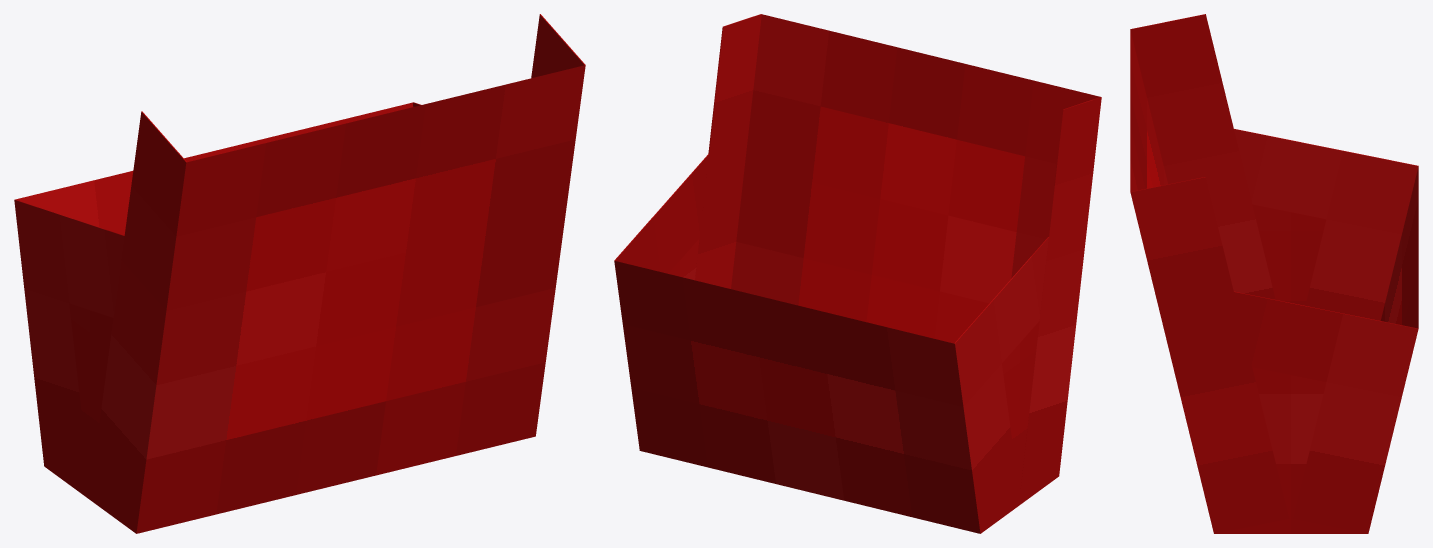
The picture shows the model from 3 angles, left to right: view 1: azimuth 30°, elevation 25°; view 2: azimuth 150°, elevation 25°; view 3: azimuth 270°, elevation 25°; orthographic projection. The views are drawn at different scales.
Visible parts, largest first — view 1: back, back_l, front_l, front, bottom_l, top_l, back_r; view 2: back, front, back_l, back_r, front_l, top_r, bottom_l, top_l, bottom_r; view 3: back_r, back_l, front_r, front_l, bottom_r, top_r, top_l, bottom_l, front, back.
Part boxes in pixels (x1,y1,x2,y2): back: (136, 65, 585, 533); back_l: (91, 111, 186, 533); front_l: (14, 200, 88, 480); front: (15, 102, 413, 235); bottom_l: (45, 303, 134, 532); top_l: (15, 199, 124, 317); back_r: (531, 14, 585, 436); back: (731, 14, 1100, 343); front: (614, 261, 980, 533); back_l: (1020, 97, 1101, 488); back_r: (695, 14, 761, 288); front_l: (955, 301, 1018, 533); top_r: (614, 154, 708, 273); bottom_l: (982, 321, 1058, 532); top_l: (954, 237, 1048, 362); bottom_r: (668, 238, 699, 280); back_r: (1130, 177, 1289, 533); back_l: (1130, 14, 1275, 299); front_r: (1293, 314, 1418, 533); front_l: (1305, 151, 1418, 320); bottom_r: (1215, 367, 1367, 533); top_r: (1234, 291, 1418, 381); top_l: (1234, 129, 1418, 219); bottom_l: (1252, 204, 1326, 305); front: (1381, 167, 1418, 328); back: (1130, 30, 1167, 191).
Bounding box in the file's own units: 0.3125 × 0.3186 × 0.2332.
